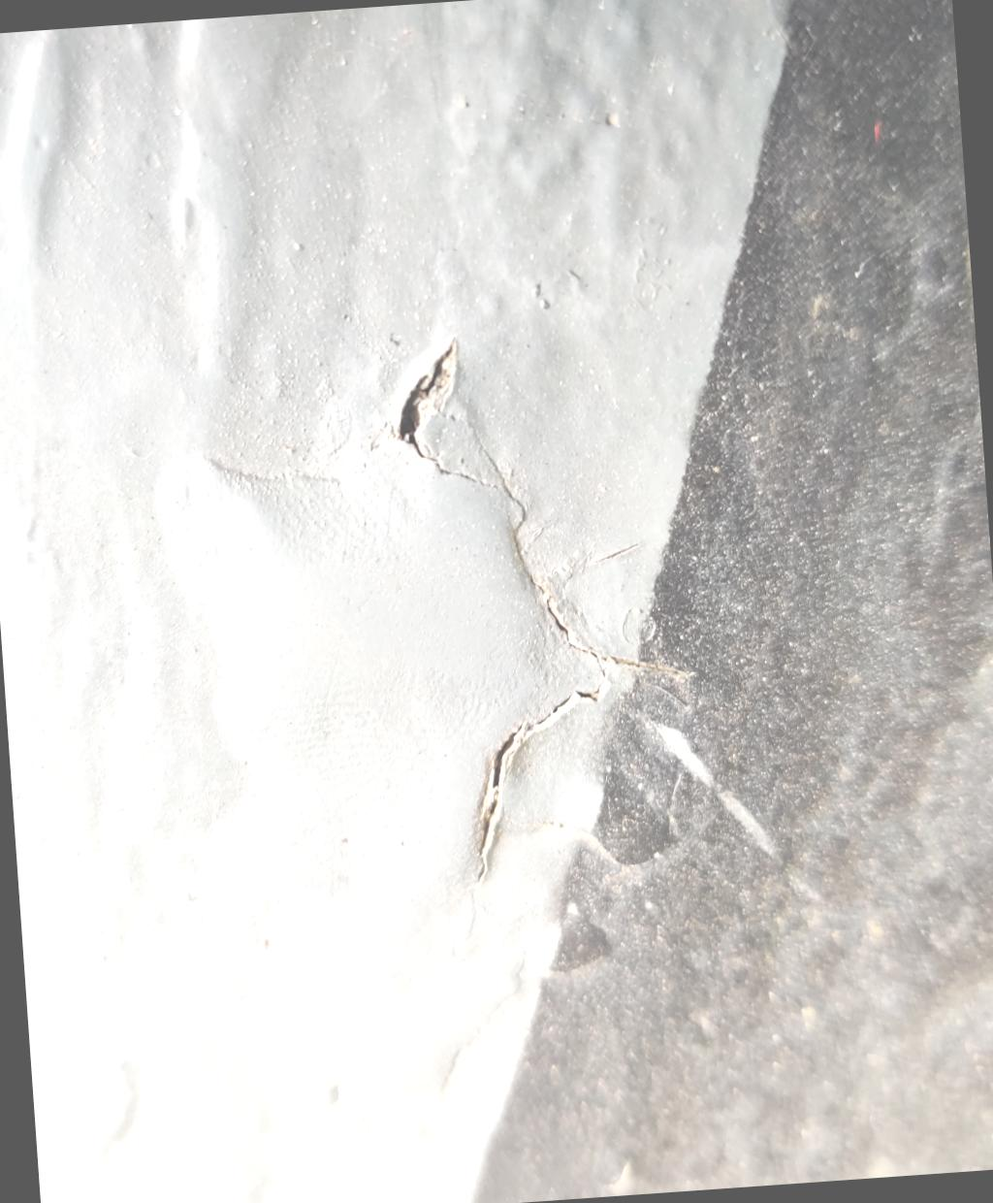crack: (363, 303, 734, 909)
